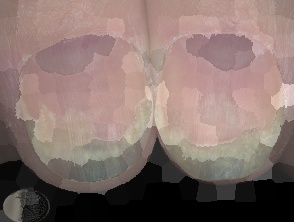Nail_psoriasis: (0, 7, 158, 204), (147, 11, 294, 195)
